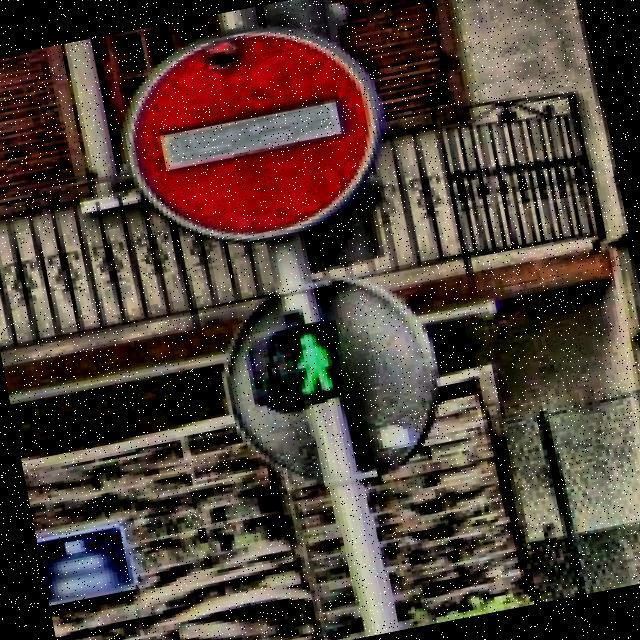green_light: (280, 324, 336, 397)
